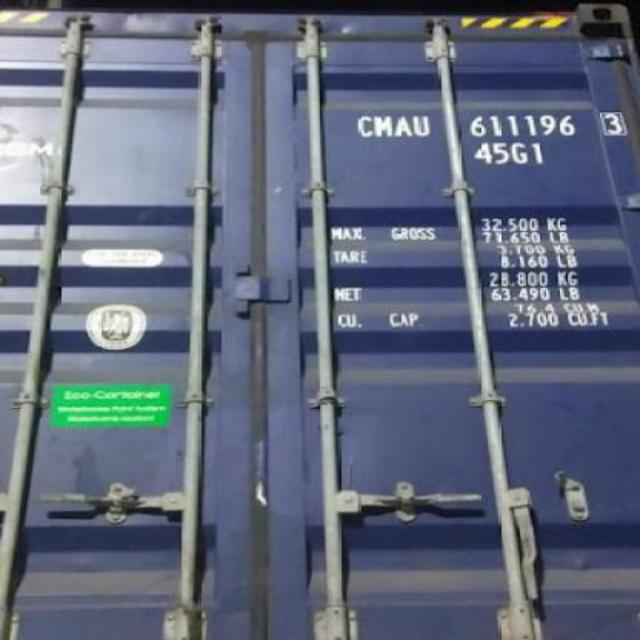1: (484, 106, 504, 142), (520, 106, 540, 138), (504, 105, 522, 138)
3: (596, 108, 630, 138)
6: (558, 102, 582, 144), (466, 110, 486, 140)
9: (538, 104, 558, 144)
A: (391, 108, 412, 144)
C: (348, 100, 376, 142)
M: (374, 108, 392, 144)
U: (412, 102, 434, 148)
